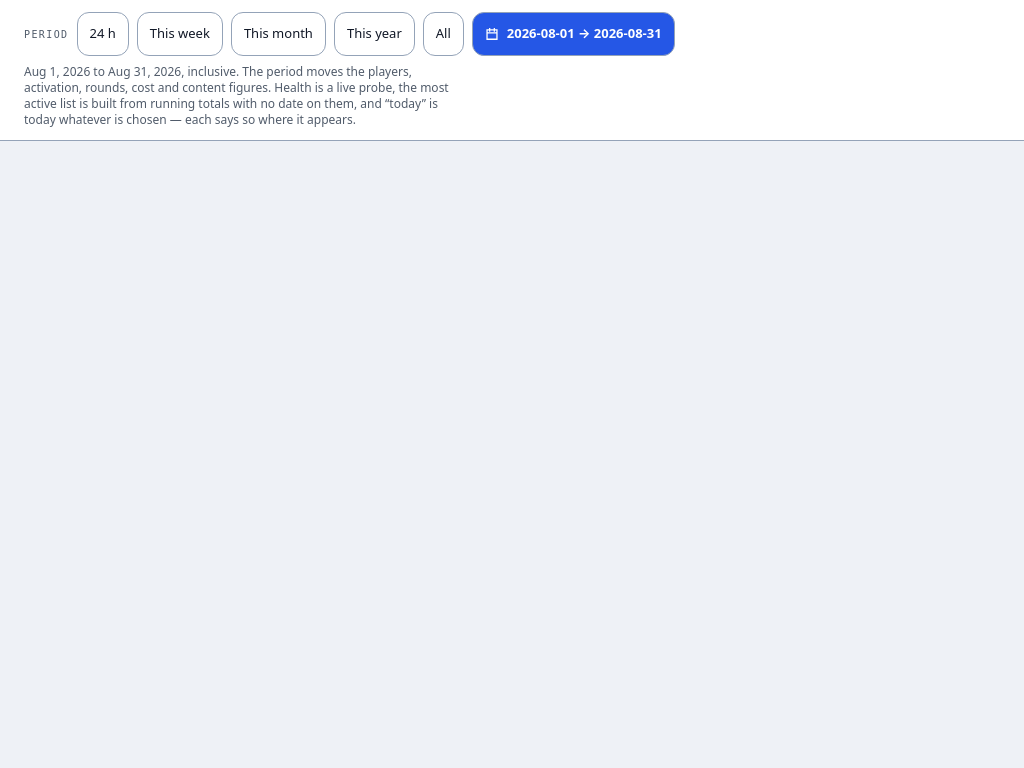
Test: K.2 — the custom period › refuses to apply a pair that runs backwards, and says why
Step 1. Click the button "2026-08-01 → 2026-08-31" → (573, 34), box [472,12,675,56]
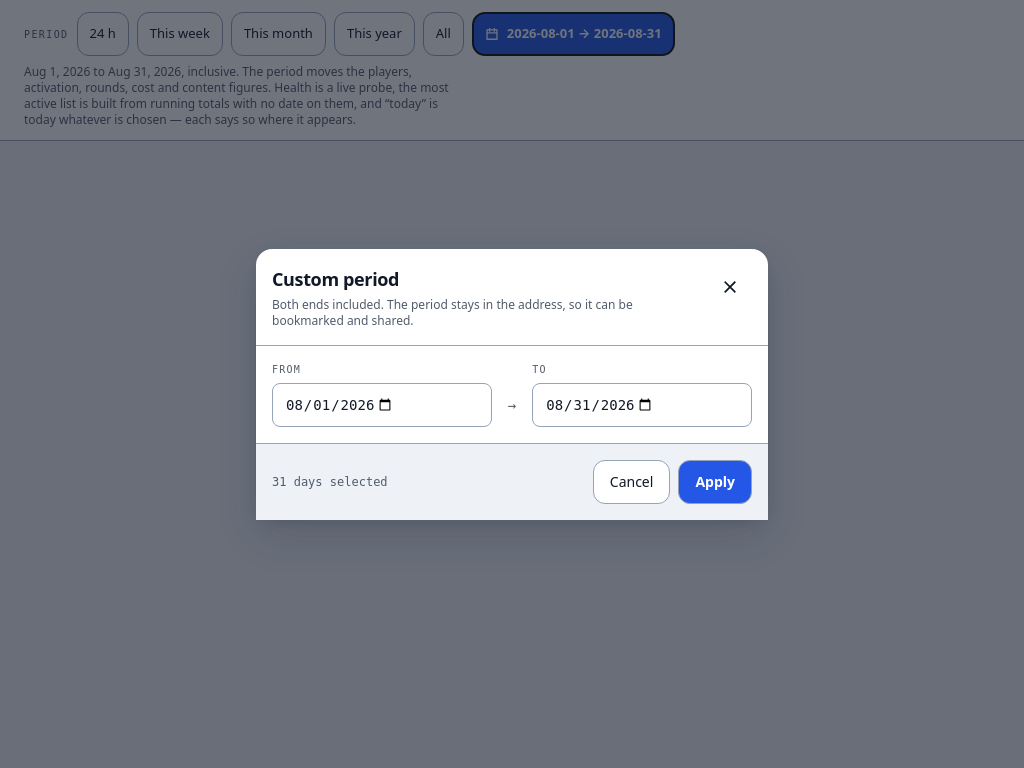
Step 2. Type "2026-09-30" into the date field labelled "From" → (382, 404), box [272,382,492,426]
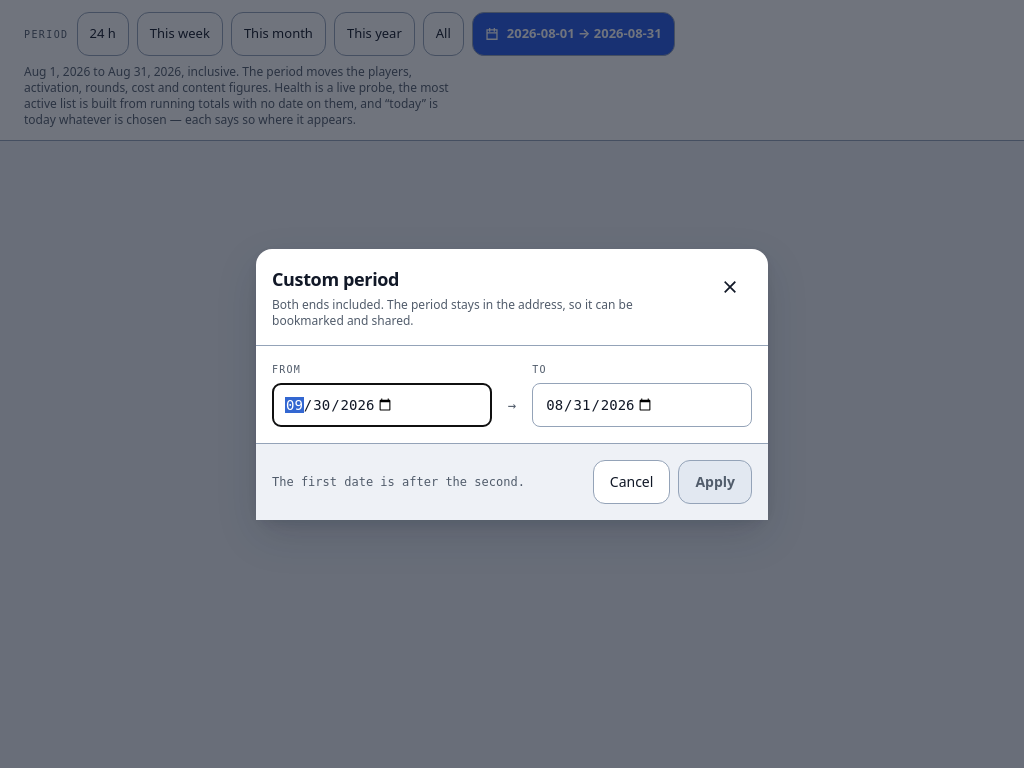
Expected: the text "The first date is after the second." is shown, [272,474,525,490]
Expected: the button "Apply" is disabled, [678,460,752,504]
